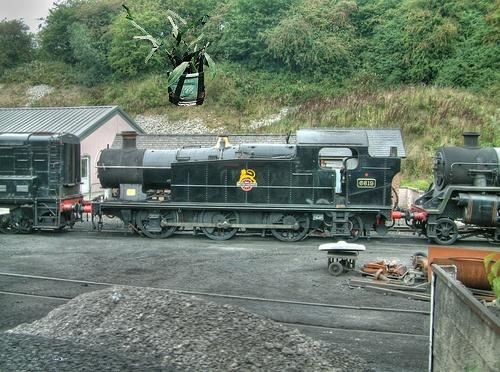tampered: (123, 5, 216, 106)
